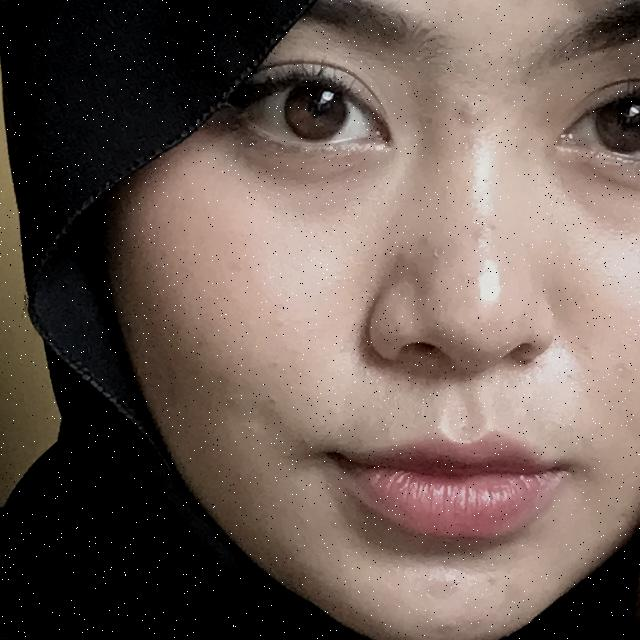telpon: (460, 56, 640, 640)
